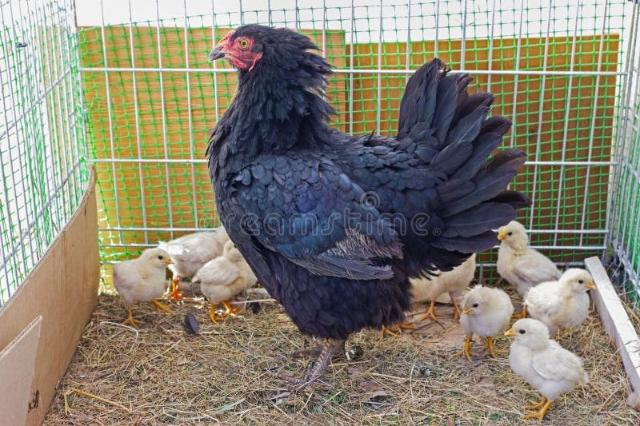Chicken: (207, 23, 533, 376)
